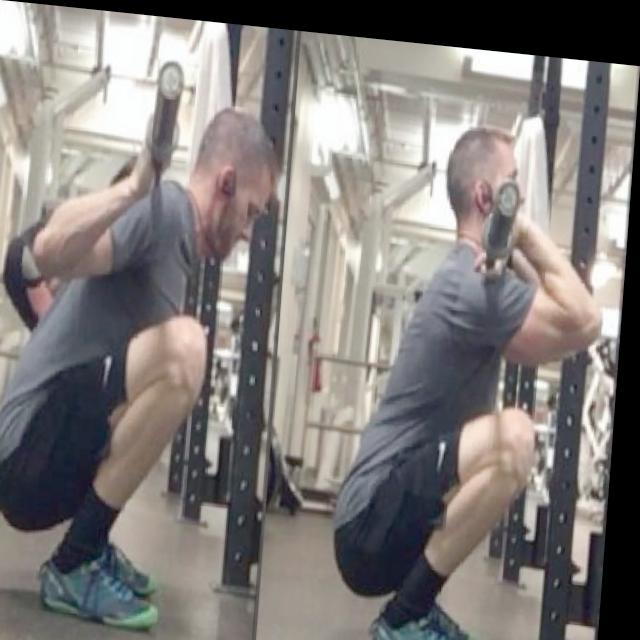barbell: (145, 50, 190, 159), (477, 165, 528, 256)
